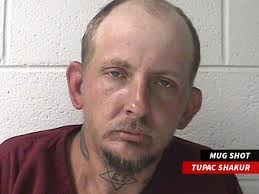white_male: (88, 42, 182, 171)
